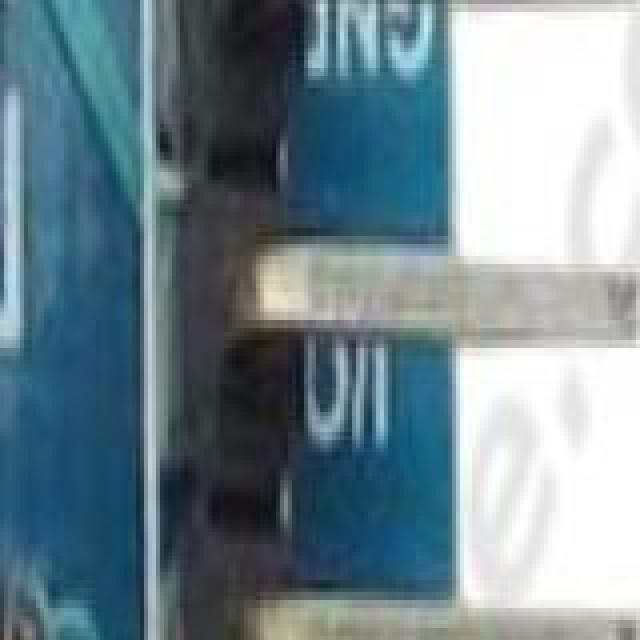connector: (152, 0, 640, 640)
resistor: (0, 0, 4, 260)
transistor: (0, 616, 32, 640)
